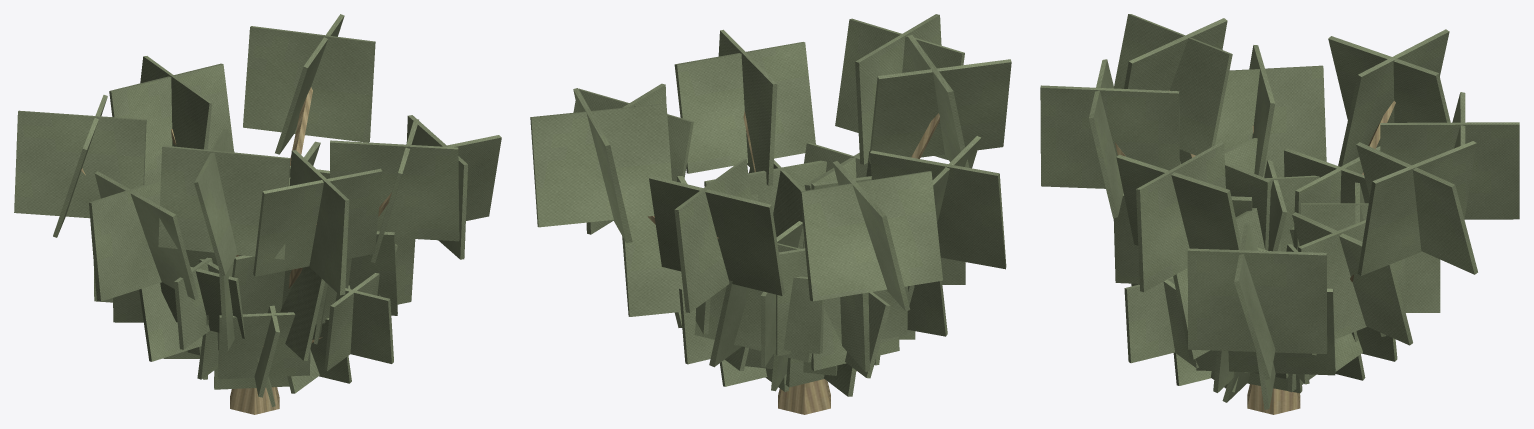
The model's file is bush_v1.glb.
The picture shows the model from 3 angles, left to right: view 1: azimuth 30°, elevation 25°; view 2: azimuth 150°, elevation 25°; view 3: azimuth 270°, elevation 25°; orthographic projection. The views are drawn at different scales.
Visible parts, largest first — view 1: Variant_bush_1; view 2: Variant_bush_1; view 3: Variant_bush_1.
Boxes of the visible parts, x1,y1,x2,y2 form: Variant_bush_1: (14,14,501,414); Variant_bush_1: (530,14,1011,414); Variant_bush_1: (1040,14,1519,414).
Bounding box in the file's own units: 1.22 × 0.8719 × 1.17.
2 materials, 2 textured.
